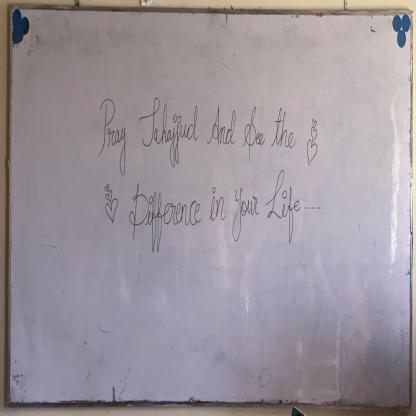Handwritten text: (89, 94, 297, 171), (131, 172, 302, 257)
Whiteboard: (7, 3, 413, 410)
